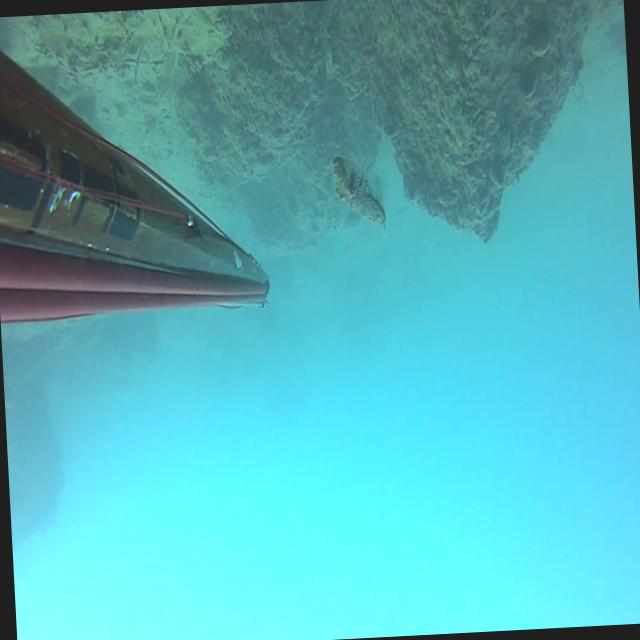Balon Baligi: (332, 153, 386, 234)
